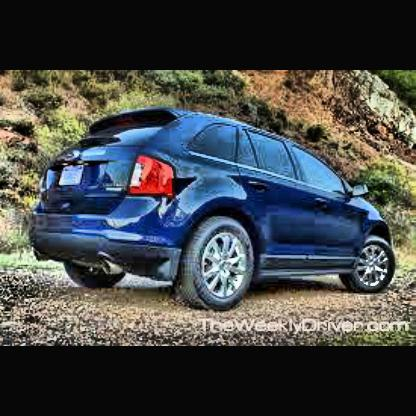Ford Edge SUV 2012: (27, 100, 402, 314)
